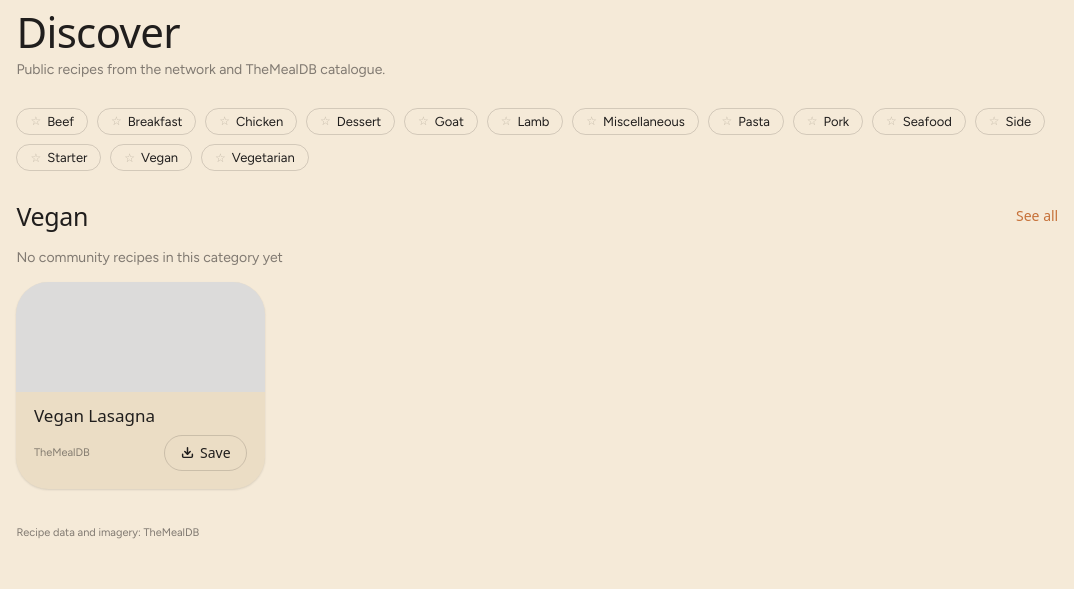
DiscoverScreen › UI-21 returns a failed TheMealDB tile Save to Save with an inline message
Click the button "Save".
click(206, 453)  # box 164,435 -> 247,471
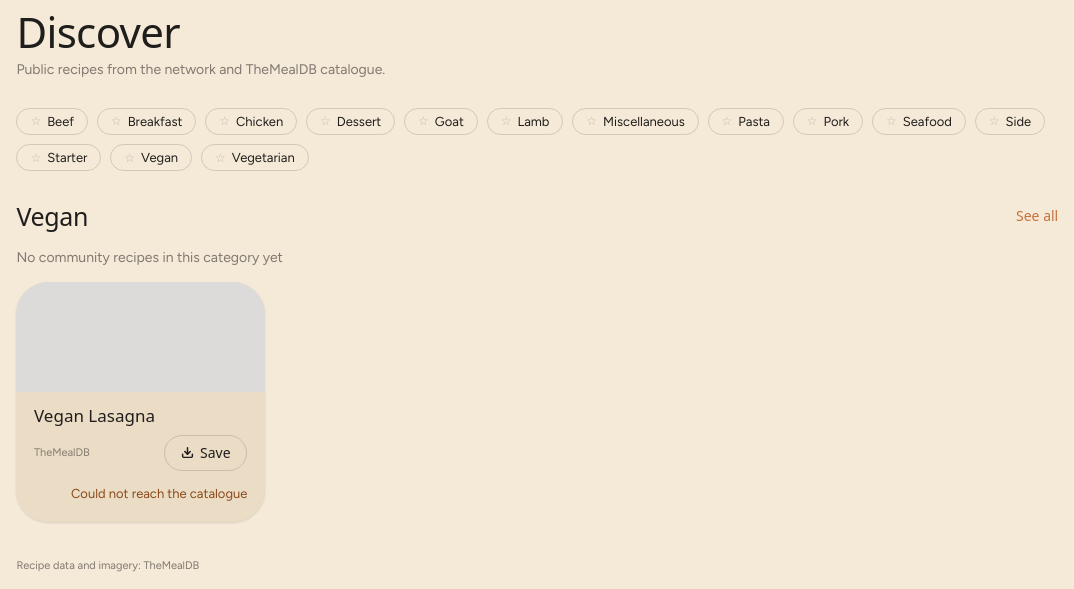
Expected: the text "Could not reach the catalogue" is shown, 71,484 -> 247,504
